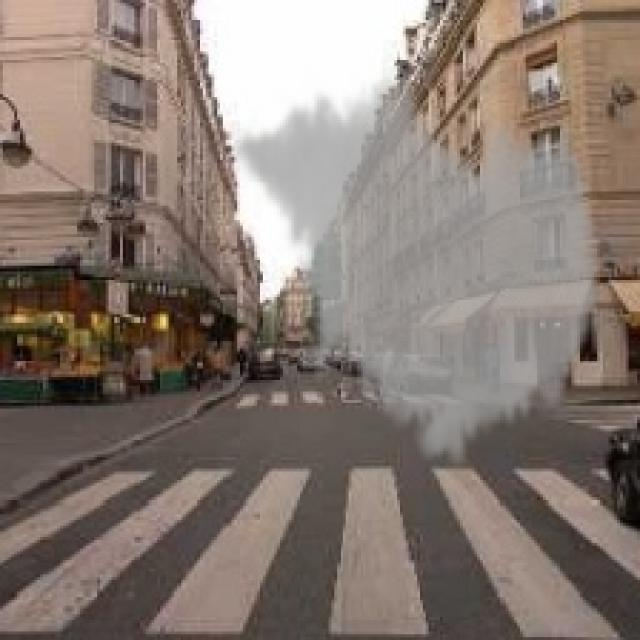smoke: (231, 63, 606, 474)
